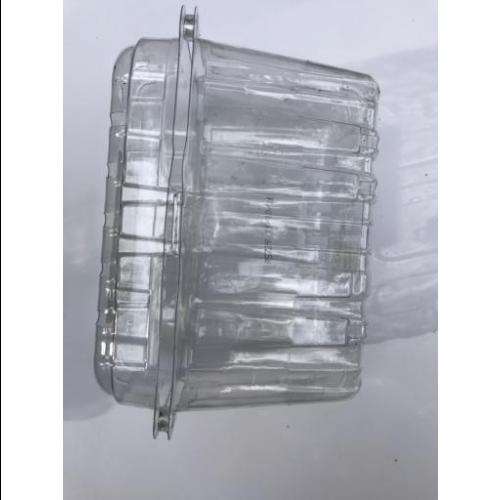plastic: (107, 45, 360, 401)
